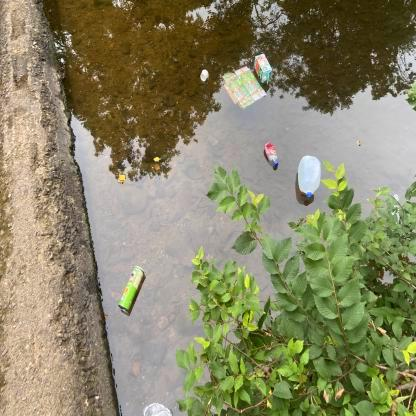Metal: (113, 262, 149, 318), (136, 398, 178, 416)
Plastic: (293, 150, 323, 210), (262, 138, 282, 173)
Trash: (196, 63, 212, 84)
